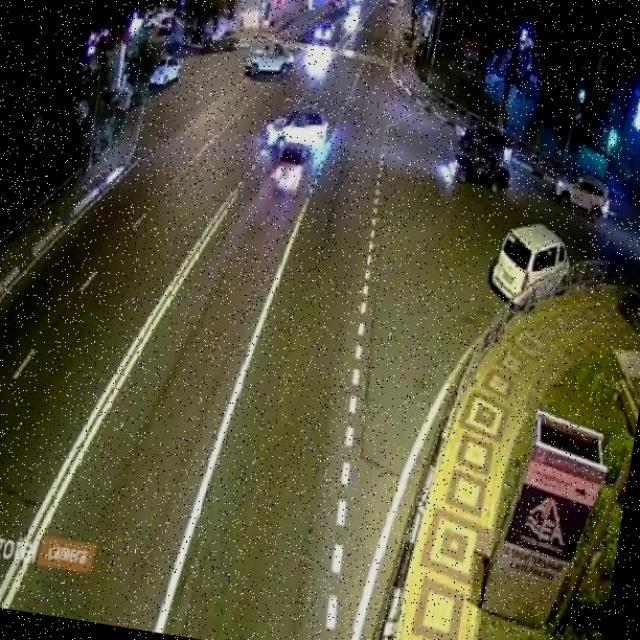accident: (242, 81, 342, 212)
